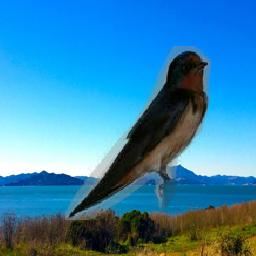Swallow: (65, 46, 211, 220)
